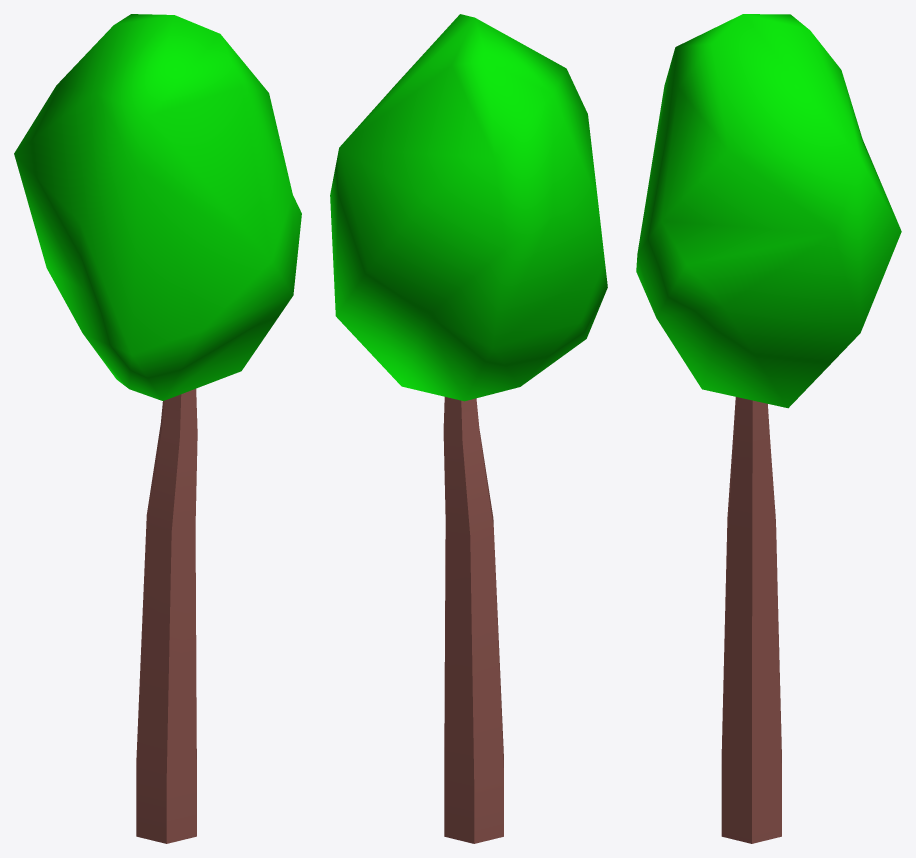
Rendered from Tree1.fbx.
3 renders of one model, left to right at view 1: azimuth 30°, elevation 25°; view 2: azimuth 150°, elevation 25°; view 3: azimuth 270°, elevation 25°, orthographic.
Parts seen in each view (by area): view 1: Tree1; view 2: Tree1; view 3: Tree1.
Part boxes in pixels (bbox=[...]): Tree1: bbox=[14, 14, 301, 843]; Tree1: bbox=[330, 14, 607, 843]; Tree1: bbox=[636, 14, 901, 843].
Size of the model in its own units: 120 by 414 by 122.
